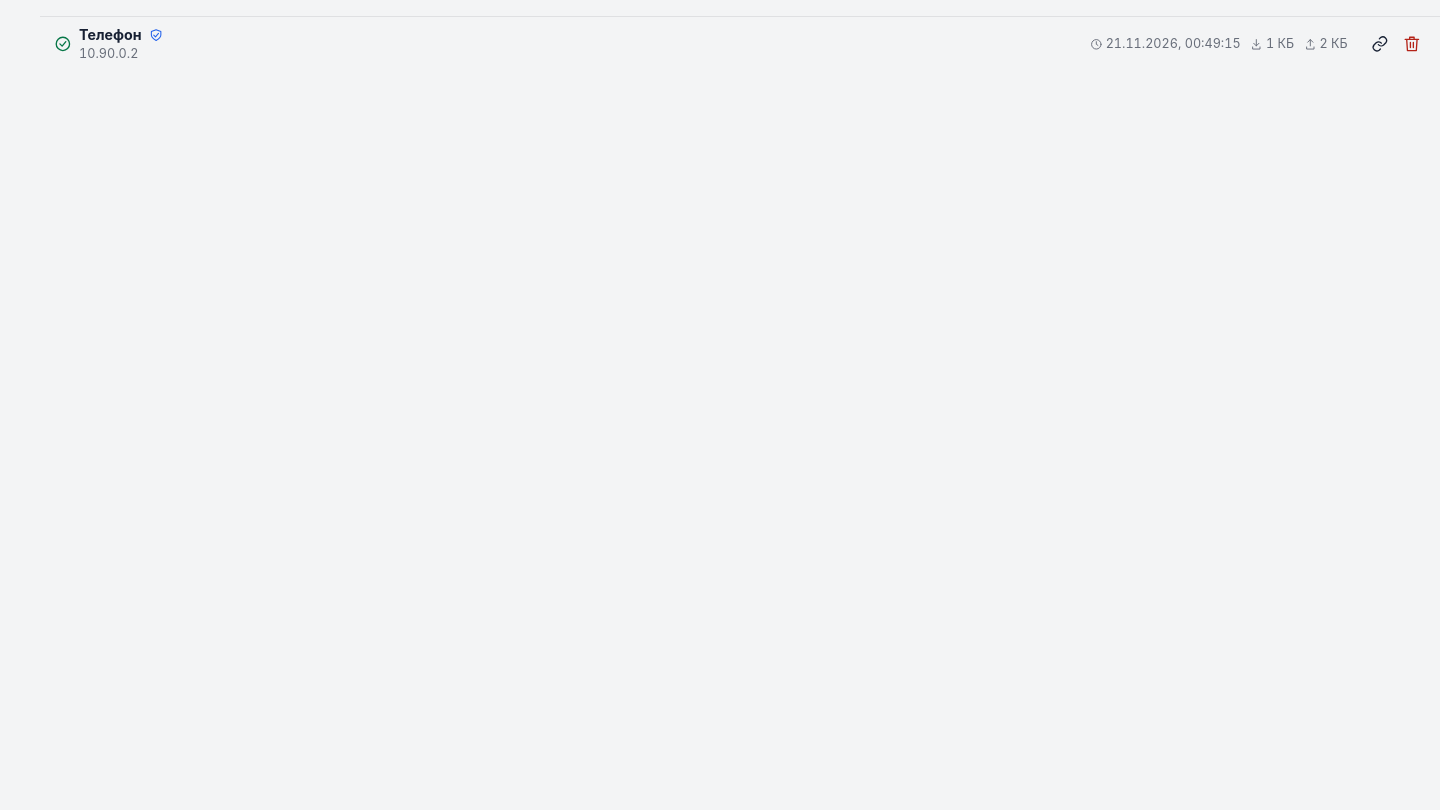
PeerRow › offers retry inside the modal after link failure
The width and height of the screenshot is (1440, 810).
Click the button named "Создать одноразовую ссылку" at (1380, 44), box [1365,30,1394,58]
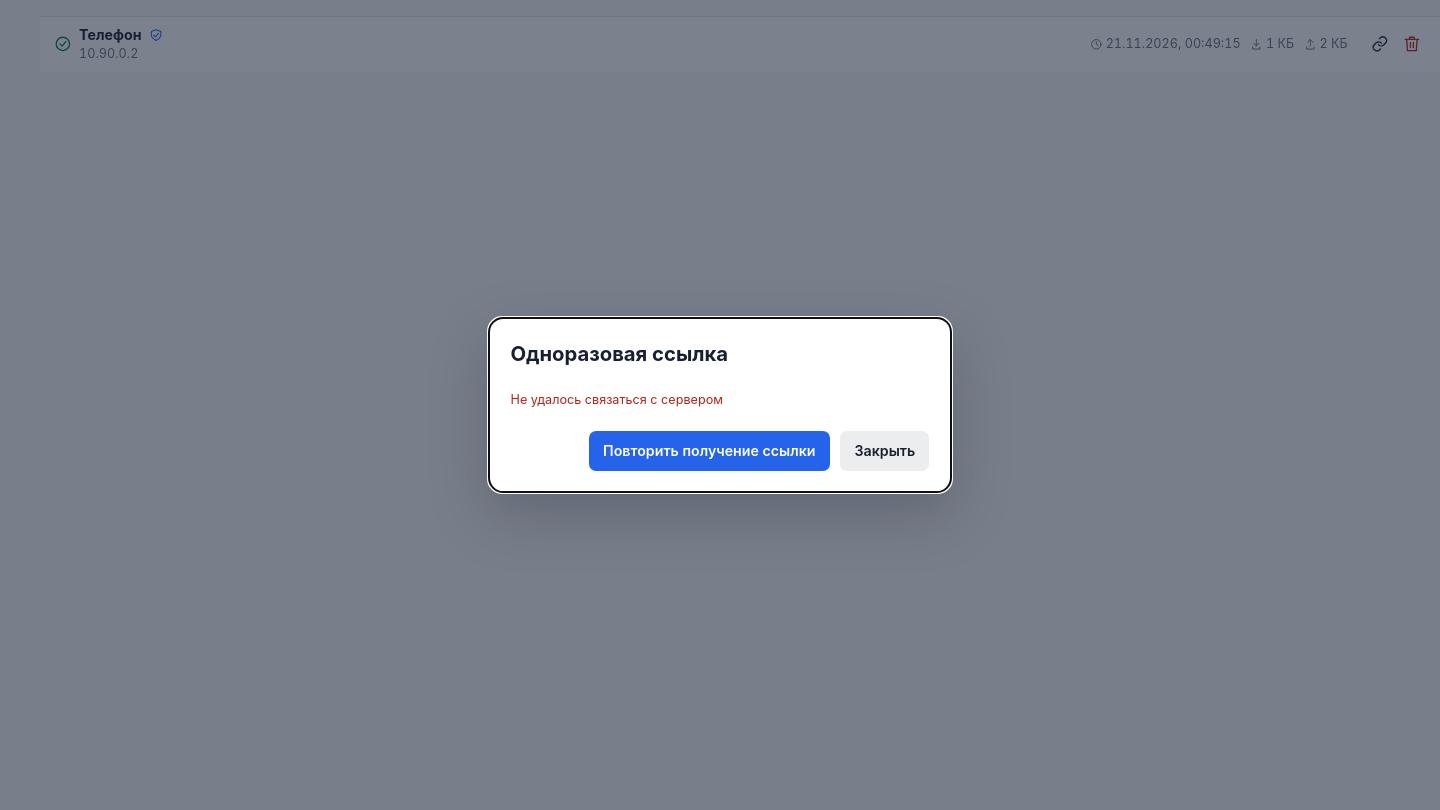
Expected: the message reads "Не удалось связаться с сервером", [510,392,723,407]
Click the button "Повторить получение ссылки" at (709, 451), box [589,431,830,470]
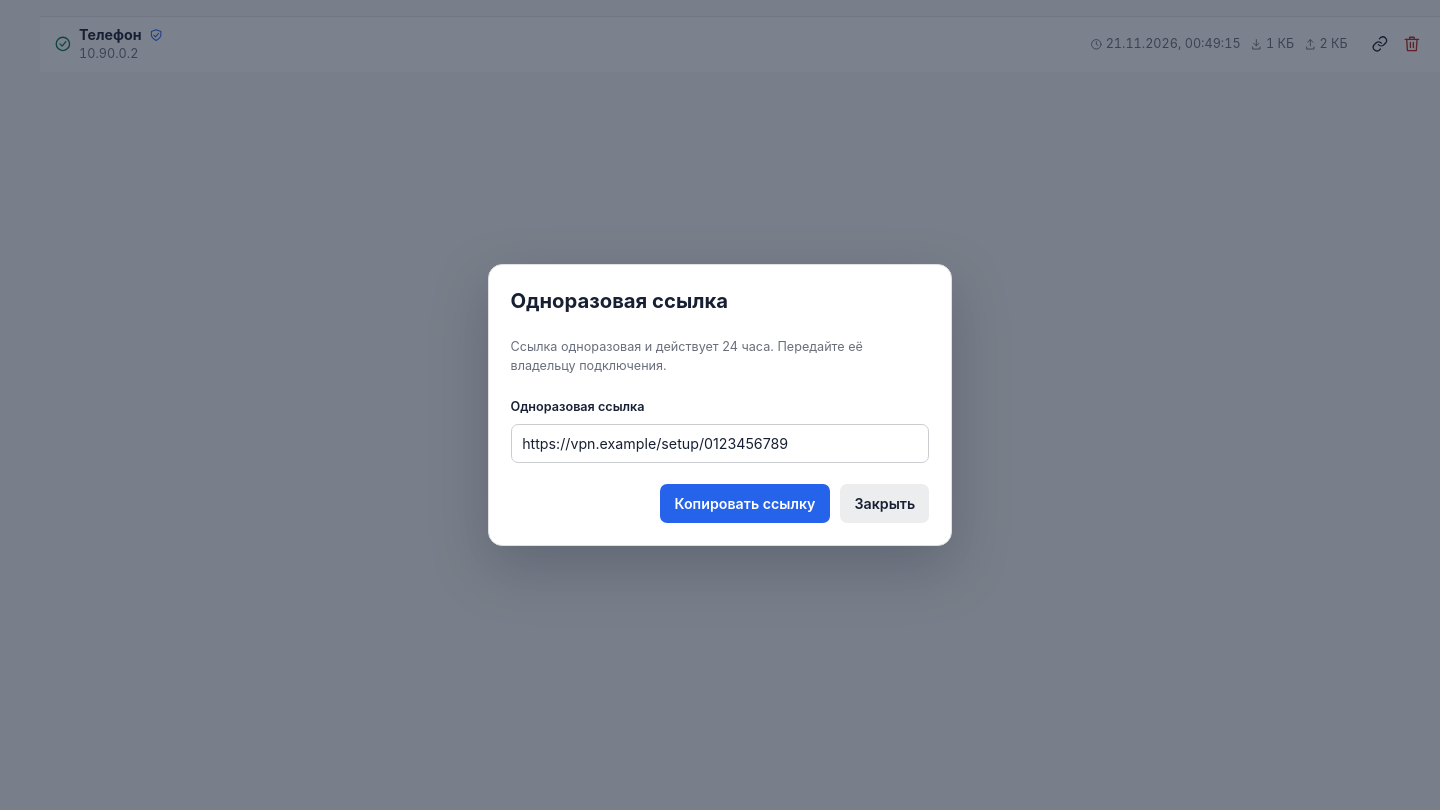
Expected: the field labelled "Одноразовая ссылка" holds "https://vpn.example/setup/0123456789", [510,424,930,463]
